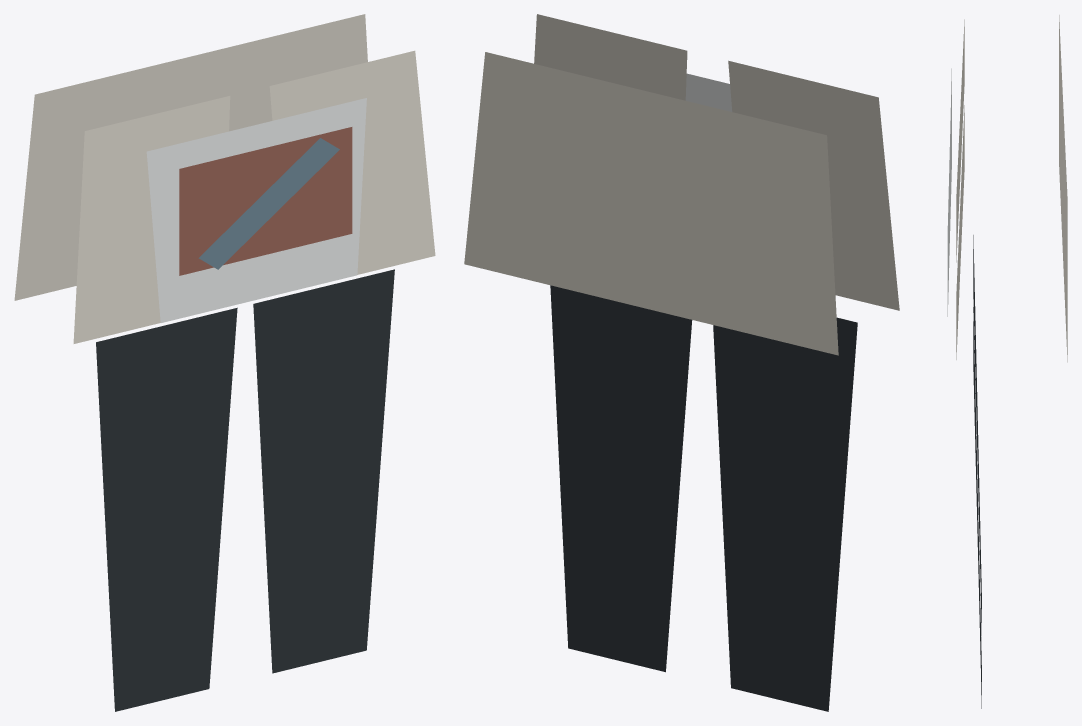
Rendered from framecut-zip-shirt-set-prototype.obj.
3 renders of one model, left to right at view 1: azimuth 30°, elevation 25°; view 2: azimuth 150°, elevation 25°; view 3: azimuth 270°, elevation 25°, orthographic. The views are drawn at different scales.
Visible parts, largest first — view 1: trouser_front_R, trouser_front_L, shirt_back, shirt_front_L, inner_front, shirt_front_R, chest_frame_outer, chest_frame_inner, zip_bridge; view 2: shirt_back, trouser_front_L, trouser_front_R, shirt_front_L, shirt_front_R, inner_front; view 3: shirt_back, shirt_front_R, shirt_front_L, trouser_front_L, trouser_front_R, inner_front.
Boxes of the visible parts, <box> form: trouser_front_R: <box>253,269,394,673</box>; trouser_front_L: <box>96,307,237,711</box>; shirt_back: <box>14,14,367,300</box>; shirt_front_L: <box>73,96,230,343</box>; inner_front: <box>146,98,366,322</box>; shirt_front_R: <box>269,50,435,274</box>; chest_frame_outer: <box>179,127,352,275</box>; chest_frame_inner: <box>208,164,325,245</box>; zip_bridge: <box>198,138,339,269</box>; shirt_back: <box>464,52,838,355</box>; trouser_front_L: <box>713,317,857,711</box>; trouser_front_R: <box>550,285,692,672</box>; shirt_front_L: <box>728,60,899,310</box>; shirt_front_R: <box>534,14,687,100</box>; inner_front: <box>685,73,732,111</box>; shirt_back: <box>1059,15,1067,362</box>; shirt_front_R: <box>956,105,964,359</box>; shirt_front_L: <box>956,19,964,262</box>; trouser_front_L: <box>973,235,981,635</box>; trouser_front_R: <box>973,307,981,708</box>; inner_front: <box>947,68,951,316</box>.
Bounding box in the file's own units: 0.92 × 1.45 × 0.325.
